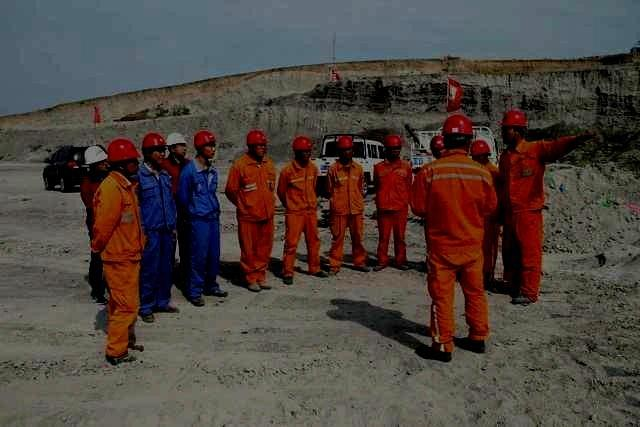helmet: (441, 112, 474, 154), (106, 137, 142, 175), (497, 108, 529, 146), (141, 131, 167, 165), (84, 145, 110, 174), (193, 129, 216, 159), (246, 129, 268, 158), (291, 135, 313, 163), (382, 133, 404, 161), (469, 139, 492, 165), (165, 132, 187, 159), (336, 136, 353, 161), (428, 135, 445, 159)
